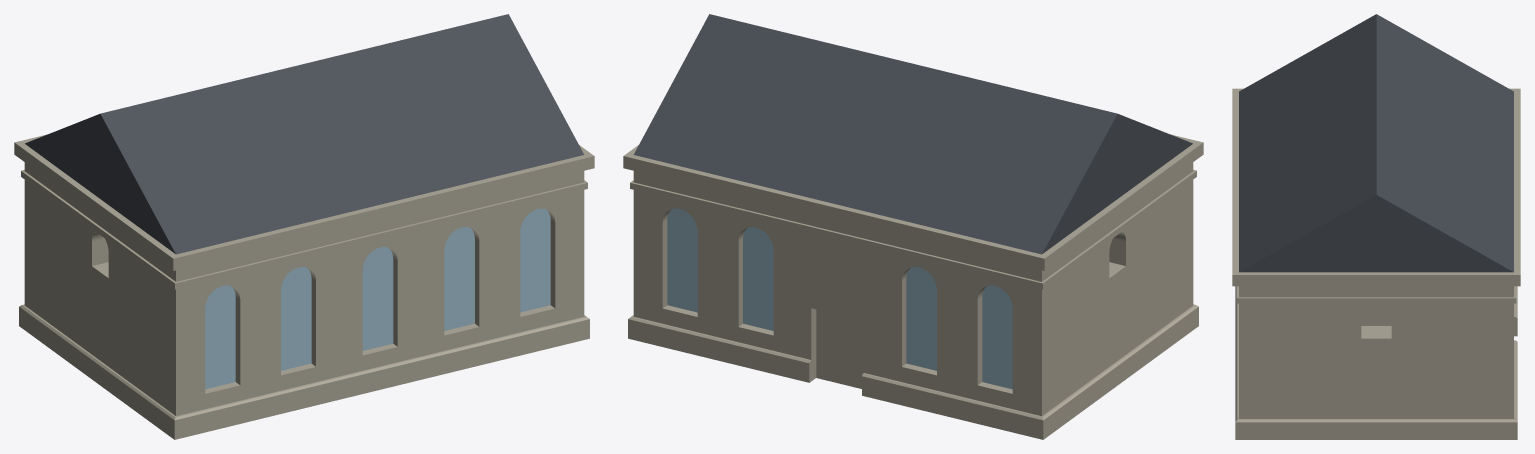
3 views of the same model, side by side, from view 1: azimuth 30°, elevation 25°; view 2: azimuth 150°, elevation 25°; view 3: azimuth 270°, elevation 25° (orthographic). The views are drawn at different scales.
Visible parts, largest first — view 1: roof_slate, body_stone, trim_stone, glass_glass (×5); view 2: roof_slate, body_stone, trim_stone, glass_glass (×4); view 3: roof_slate, body_stone, trim_stone.
Part boxes in pixels (<box>): roof_slate: <box>25,14,584,254</box>; body_stone: <box>24,162,584,416</box>; trim_stone: <box>14,134,594,439</box>; glass_glass (×5): <box>205,208,550,389</box>; roof_slate: <box>633,14,1192,254</box>; body_stone: <box>633,162,1193,416</box>; trim_stone: <box>623,134,1203,439</box>; glass_glass (×4): <box>667,208,1012,389</box>; roof_slate: <box>1239,14,1513,272</box>; body_stone: <box>1239,286,1513,418</box>; trim_stone: <box>1232,88,1520,439</box>.
Size of what is drawn, in the model's own units: 14.44 by 8.8 by 9.44.
